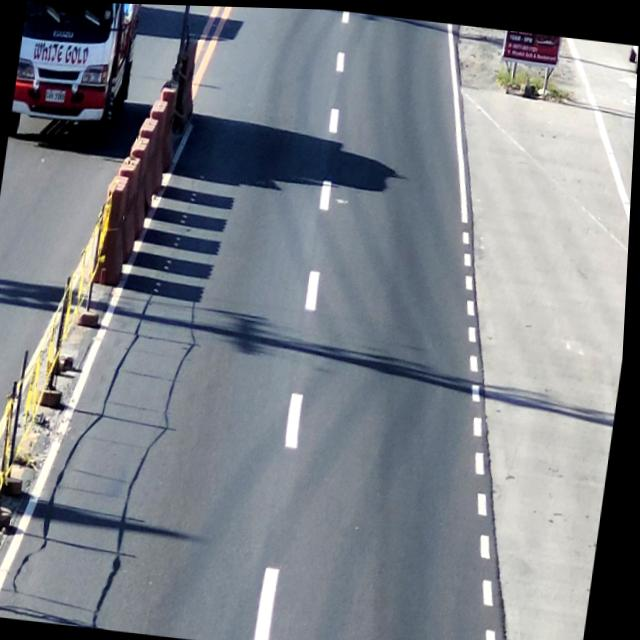License-Plate: (44, 85, 67, 107)
